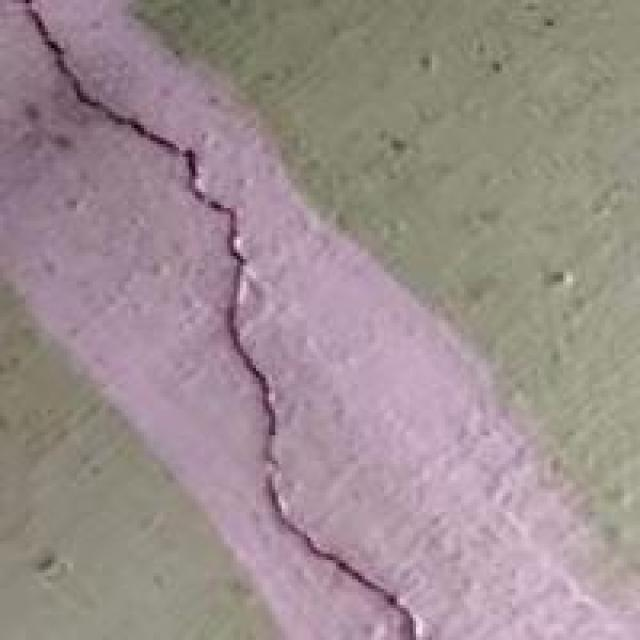Crack: (16, 9, 454, 636)
